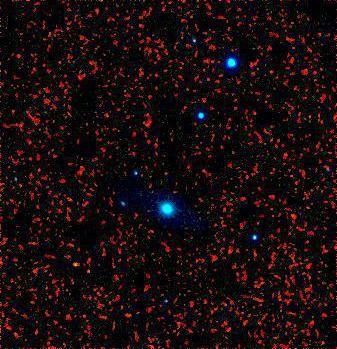star: (70, 250, 100, 280)
